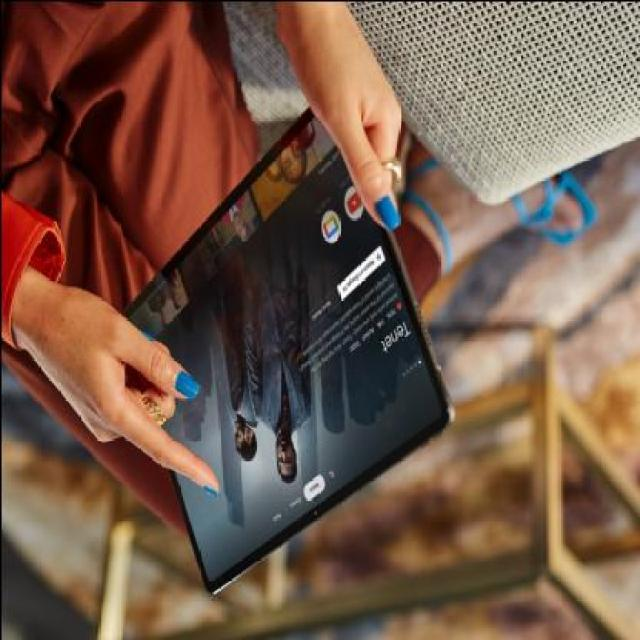tablet: (88, 83, 450, 616)
